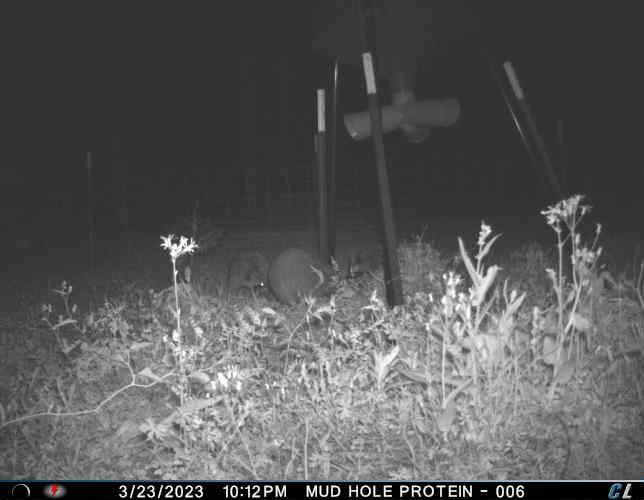Raccoon: (269, 248, 342, 305), (231, 242, 272, 301)
